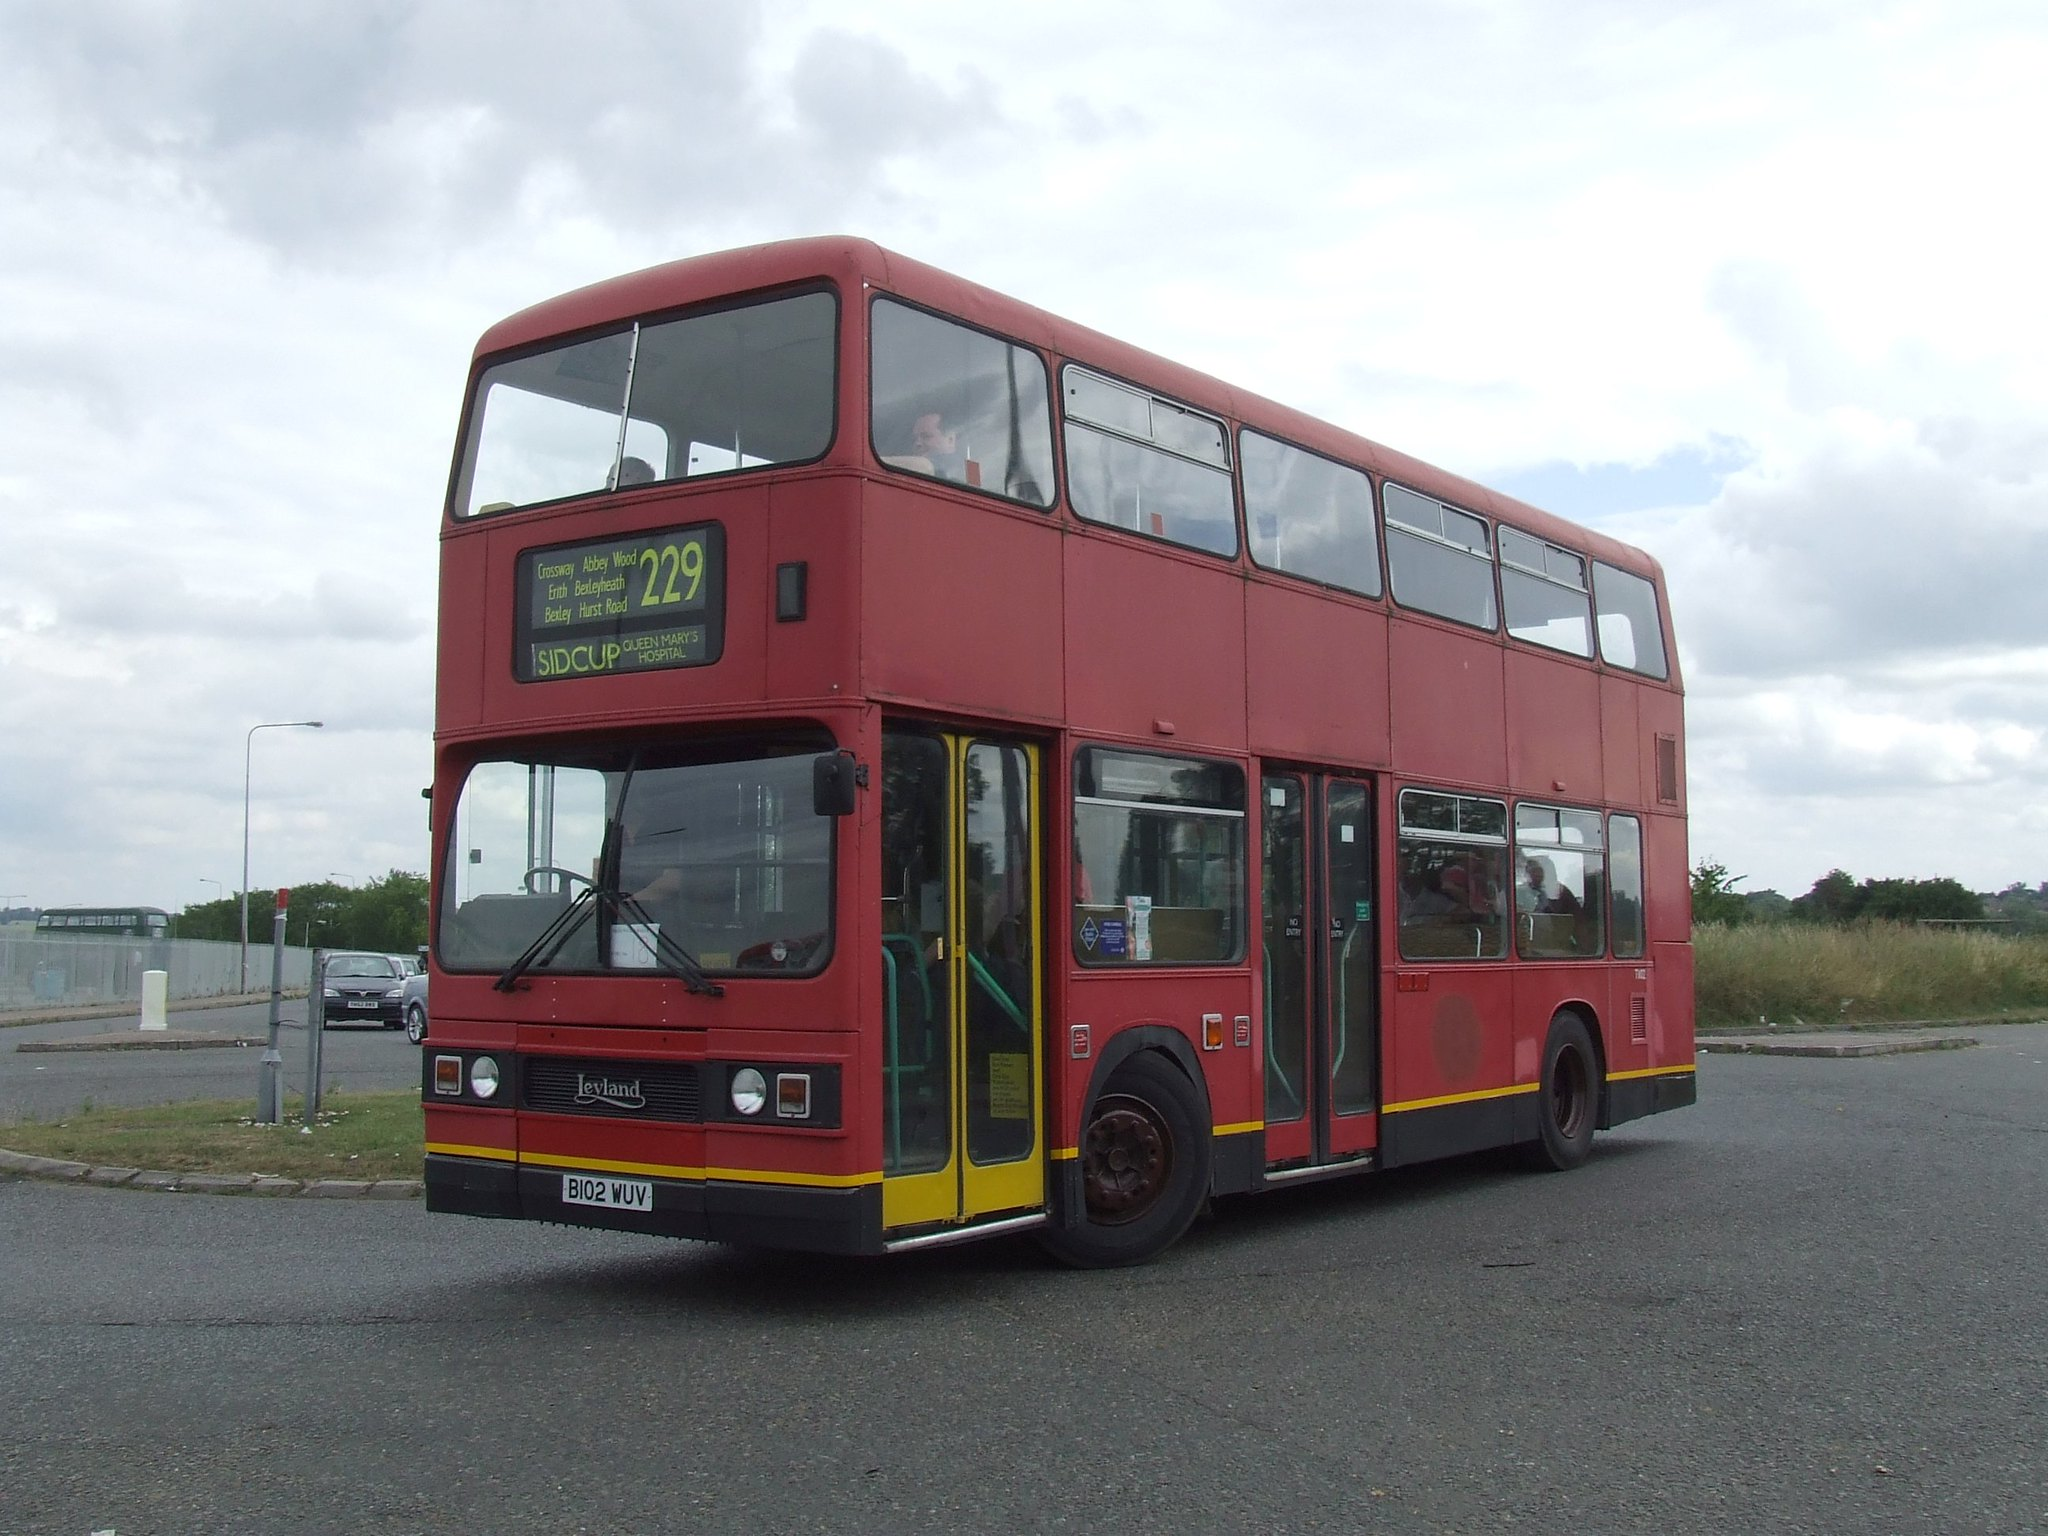bus: (427, 240, 1705, 1271)
